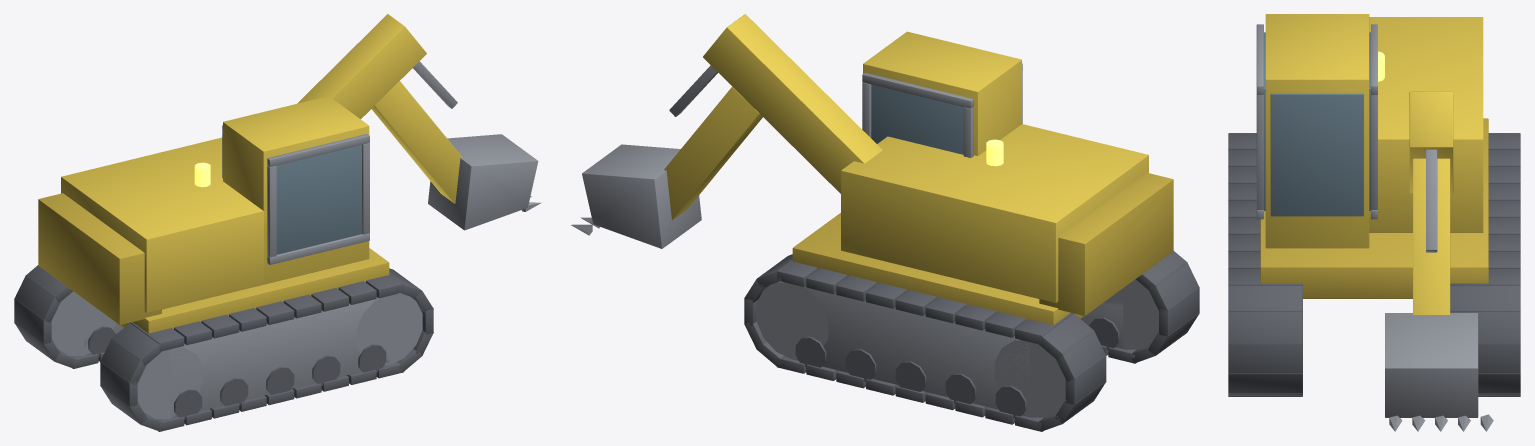
The model's file is th46_bagger.glb.
3 views of the same model, side by side, from view 1: azimuth 30°, elevation 25°; view 2: azimuth 150°, elevation 25°; view 3: azimuth 270°, elevation 25° (orthographic). The views are drawn at different scales.
Visible parts, largest first — view 1: Cube.067, Cube, Cube.069, Cube.068, Cube.070, Loeffel, Cube.081, Cube.066, Cube.082, Cylinder.001, Cylinder, Cylinder.007 (+27 smaller); view 2: Cube.067, Cube.033, Cube.081, Cube.068, Cube.069, Loeffel, Cube.066, Cube.082, Cube.075, Cylinder.008, Cylinder.007, Cylinder (+25 smaller); view 3: Cube.067, Cube.069, Cube.080, Cube.066, Loeffel, Cube.082, Cube.081, Cube.030, Cube.029, Cube.031, Cube.064, Cube.063 (+29 smaller).
Part boxes in pixels (<box>): Cube.067: <box>61,137,342,312</box>; Cube: <box>170,297,388,417</box>; Cube.069: <box>223,96,369,284</box>; Cube.068: <box>38,193,161,324</box>; Cube.070: <box>276,145,361,254</box>; Loeffel: <box>428,134,538,230</box>; Cube.081: <box>297,14,426,119</box>; Cube.066: <box>120,248,389,333</box>; Cube.082: <box>371,81,462,203</box>; Cylinder.001: <box>356,293,422,365</box>; Cylinder: <box>137,347,202,418</box>; Cylinder.007: <box>51,291,115,355</box>; Cube.067: <box>841,124,1148,302</box>; Cube.033: <box>793,285,1029,416</box>; Cube.081: <box>703,14,882,193</box>; Cube.068: <box>1039,173,1173,315</box>; Cube.069: <box>863,31,1021,155</box>; Loeffel: <box>582,144,701,248</box>; Cube.066: <box>792,213,1083,324</box>; Cube.082: <box>664,86,762,220</box>; Cube.075: <box>871,84,963,154</box>; Cylinder.008: <box>756,281,828,359</box>; Cylinder.007: <box>994,340,1065,417</box>; Cylinder: <box>1089,279,1158,349</box>; Cube.067: <box>1369,17,1483,232</box>; Cube.069: <box>1265,14,1369,248</box>; Cube.080: <box>1270,93,1363,216</box>; Cube.066: <box>1260,118,1488,298</box>; Loeffel: <box>1385,313,1478,417</box>; Cube.082: <box>1413,158,1450,314</box>; Cube.081: <box>1409,91,1453,193</box>; Cube.030: <box>1228,310,1302,344</box>; Cube.029: <box>1228,343,1302,374</box>; Cube.031: <box>1228,283,1302,311</box>; Cube.064: <box>1450,283,1520,311</box>; Cube.063: <box>1450,310,1520,344</box>.
Size of the model in its own units: 6.75 by 3.73 by 2.82.
